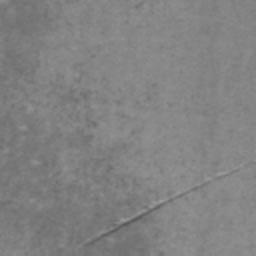Finishing roll printing: (83, 159, 255, 250)
